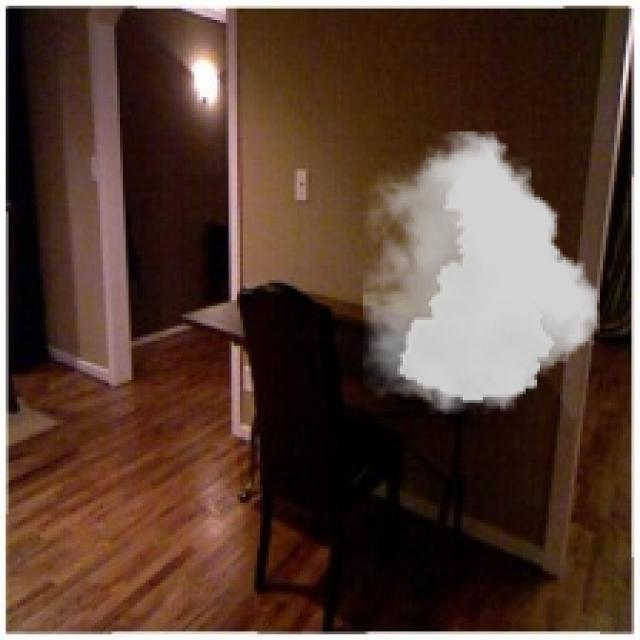smoke: (363, 132, 600, 414)
